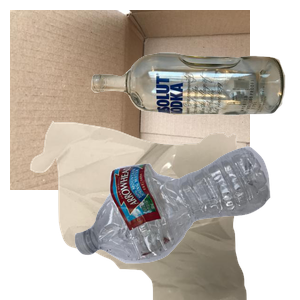cardboard: (10, 10, 250, 190)
glass: (88, 50, 300, 158)
plastic: (72, 144, 300, 300)
trash: (28, 120, 267, 300)
